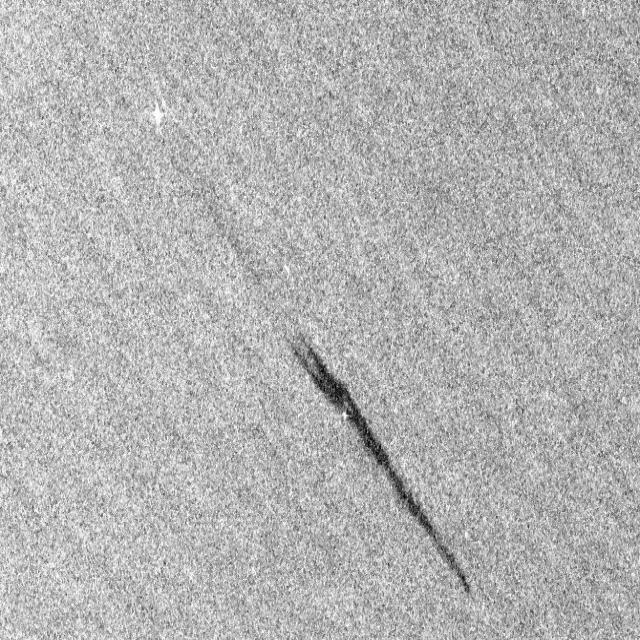oil-spill: (280, 314, 481, 611)
